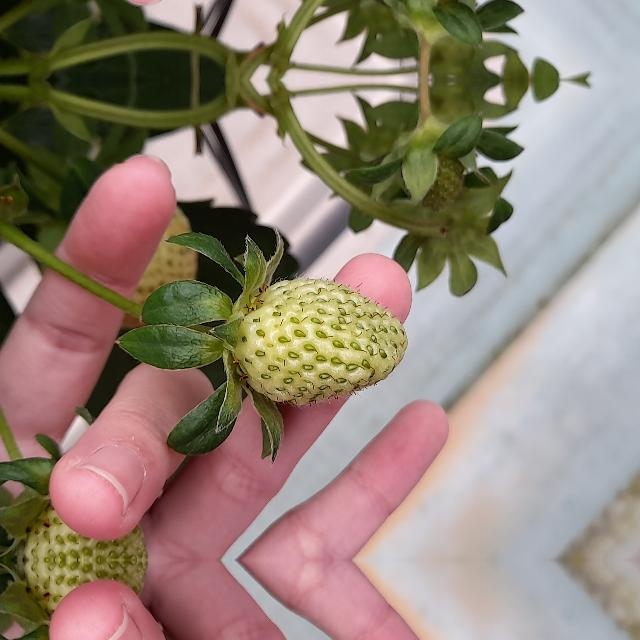Health_25: (235, 278, 408, 404), (18, 485, 160, 559), (18, 561, 160, 635)
